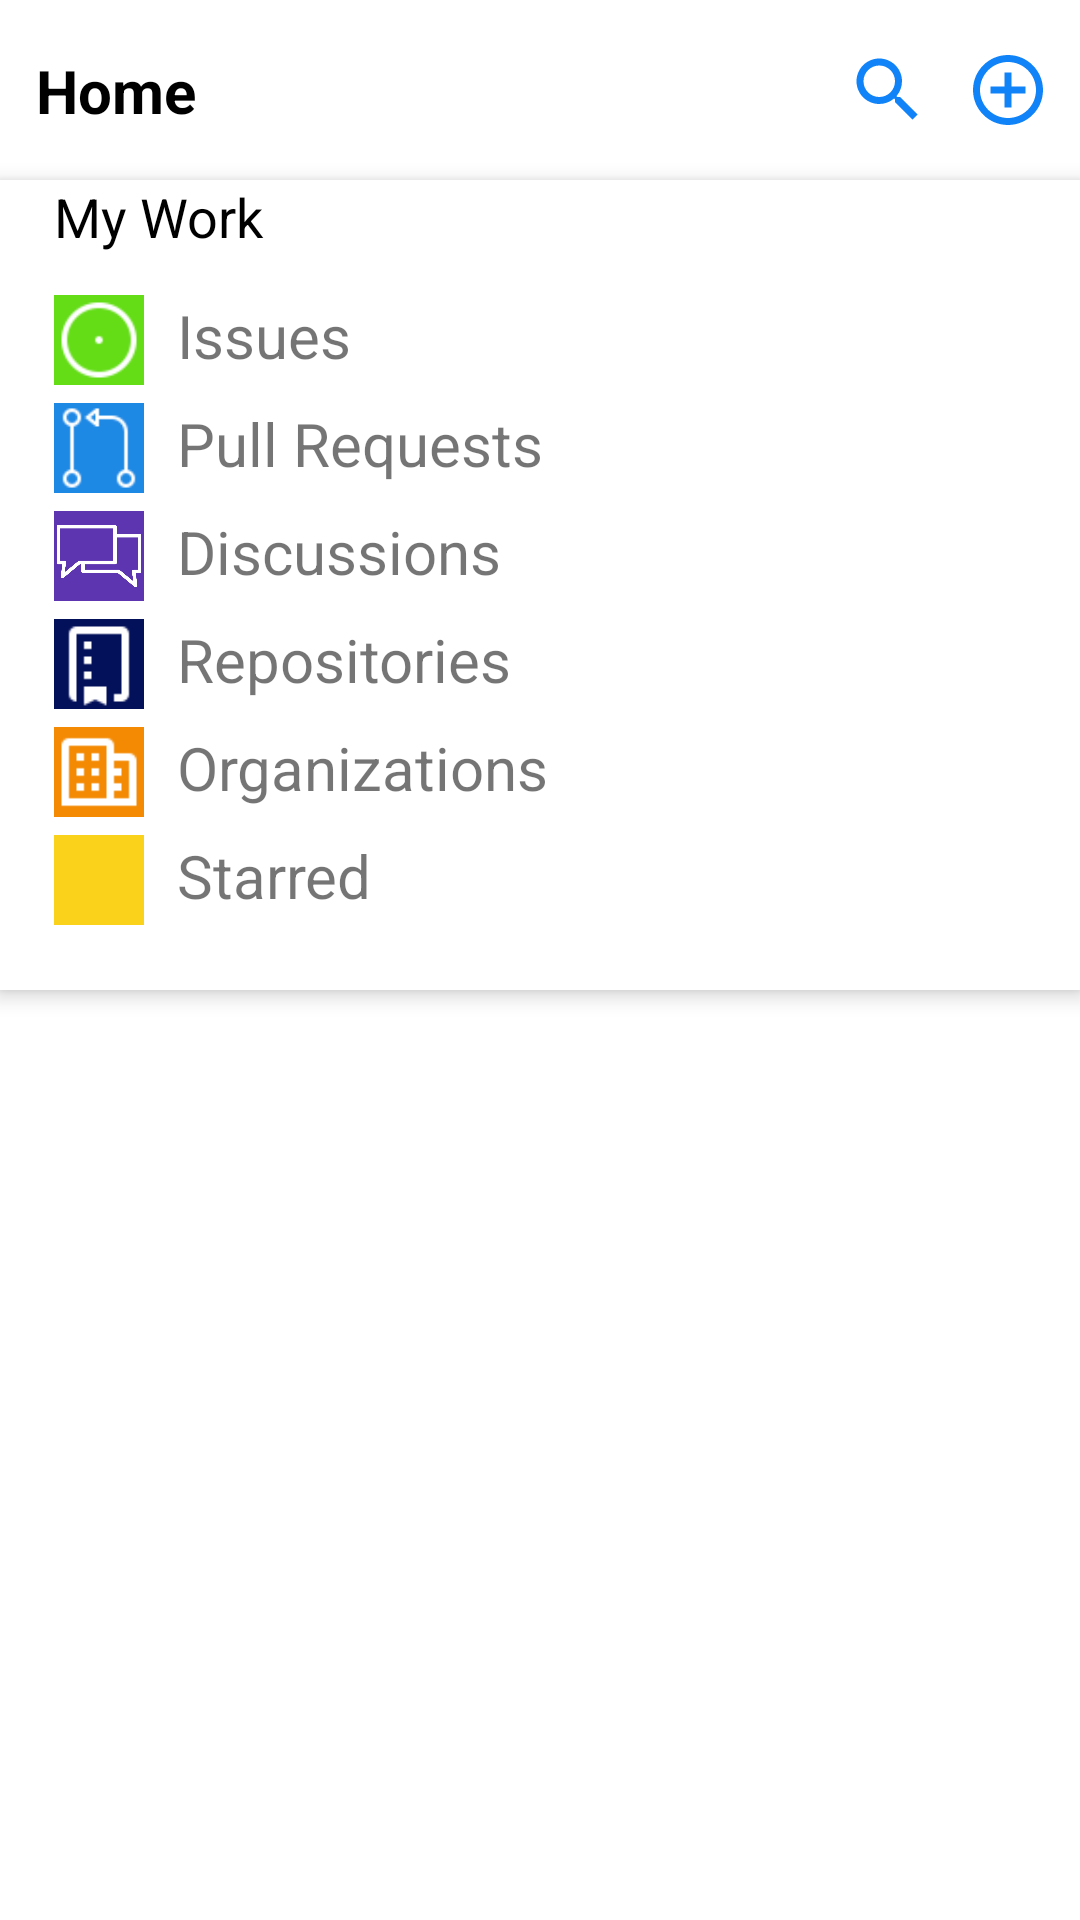

Icon bounding boxes for this 1080×1920 phone screenshot, format (x1, y1, x2, y2):
add circle: (973, 55, 1043, 125)
chat: (54, 511, 144, 601)
repository: (54, 619, 144, 709)
search: (856, 58, 918, 120)
